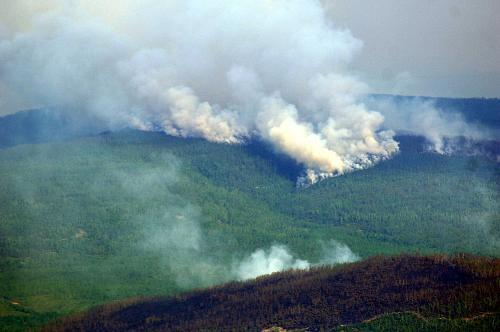yanwu: (8, 1, 403, 188), (112, 176, 364, 289), (359, 66, 495, 163)
